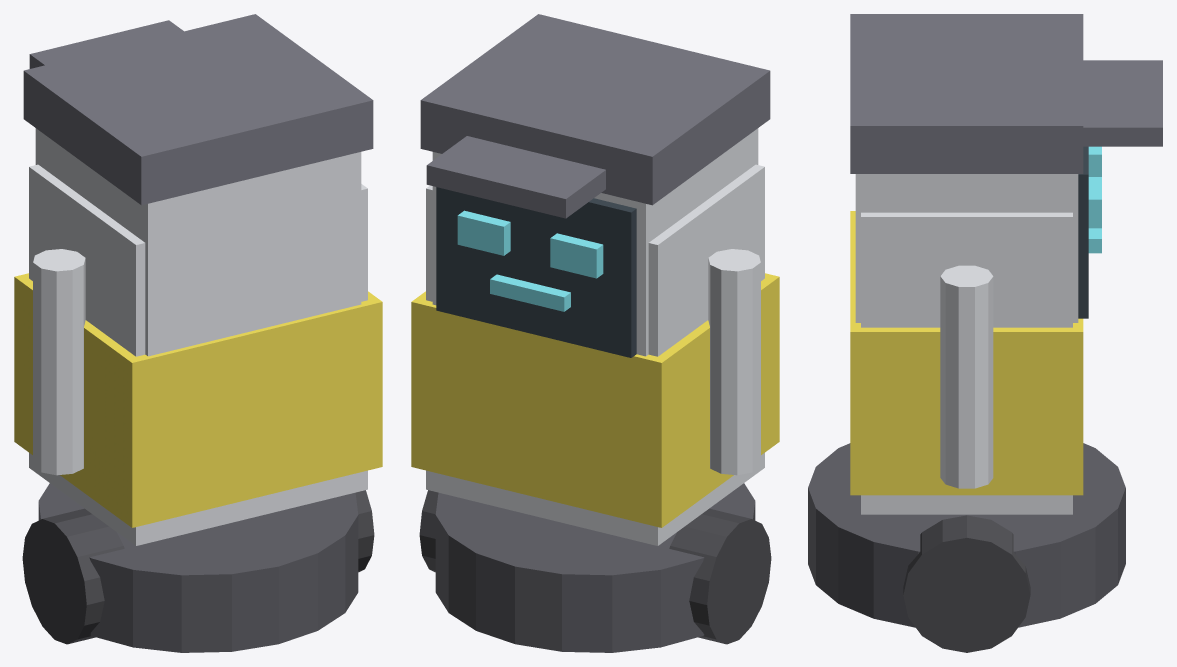
The model's file is PickerBot.glb.
3 renders of one model, left to right at view 1: azimuth 30°, elevation 25°; view 2: azimuth 150°, elevation 25°; view 3: azimuth 270°, elevation 25°, orthographic.
Parts seen in each view (by area): view 1: Vest, Cap, Head, Base, Torso, ArmL, WheelL, CapPeak, WheelR; view 2: Vest, Cap, Base, Screen, Torso, ArmL, WheelL, CapPeak, Head, EyeL, EyeR, Mouth (+1 smaller); view 3: Cap, Vest, Base, Torso, WheelR, ArmR, Head, CapPeak, Screen, EyeR.
Part boxes in pixels (x1=…): Vest: x1=14, y1=273, x2=382, y2=527; Cap: x1=23, y1=14, x2=373, y2=205; Head: x1=35, y1=128, x2=361, y2=356; Base: x1=38, y1=483, x2=358, y2=652; Torso: x1=29, y1=164, x2=367, y2=545; ArmL: x1=33, y1=249, x2=85, y2=475; WheelL: x1=22, y1=508, x2=124, y2=644; CapPeak: x1=29, y1=20, x2=183, y2=68; WheelR: x1=355, y1=490, x2=374, y2=572; Vest: x1=411, y1=273, x2=779, y2=527; Cap: x1=420, y1=14, x2=770, y2=205; Base: x1=435, y1=483, x2=755, y2=652; Screen: x1=436, y1=187, x2=636, y2=357; Torso: x1=426, y1=164, x2=764, y2=545; ArmL: x1=708, y1=249, x2=760, y2=475; WheelL: x1=669, y1=508, x2=771, y2=644; CapPeak: x1=426, y1=136, x2=605, y2=218; Head: x1=432, y1=128, x2=758, y2=356; EyeL: x1=550, y1=233, x2=603, y2=278; EyeR: x1=457, y1=210, x2=510, y2=255; Mouth: x1=490, y1=274, x2=570, y2=311; Cap: x1=850, y1=14, x2=1083, y2=173; Vest: x1=850, y1=211, x2=1083, y2=495; Base: x1=808, y1=443, x2=1125, y2=627; Torso: x1=861, y1=212, x2=1072, y2=514; WheelR: x1=903, y1=515, x2=1030, y2=652; ArmR: x1=940, y1=265, x2=993, y2=488; Head: x1=855, y1=174, x2=1078, y2=322; CapPeak: x1=1083, y1=60, x2=1162, y2=146; Screen: x1=1078, y1=146, x2=1088, y2=318; EyeR: x1=1088, y1=177, x2=1101, y2=228.
Size of the model in its own units: 0.6951 by 1.07 by 0.67.
